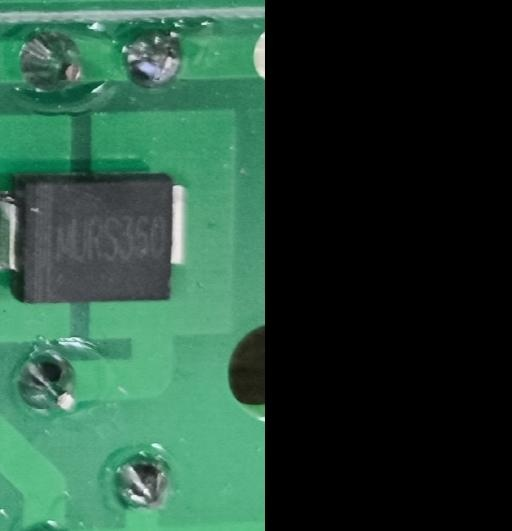diode: (0, 169, 189, 307)
